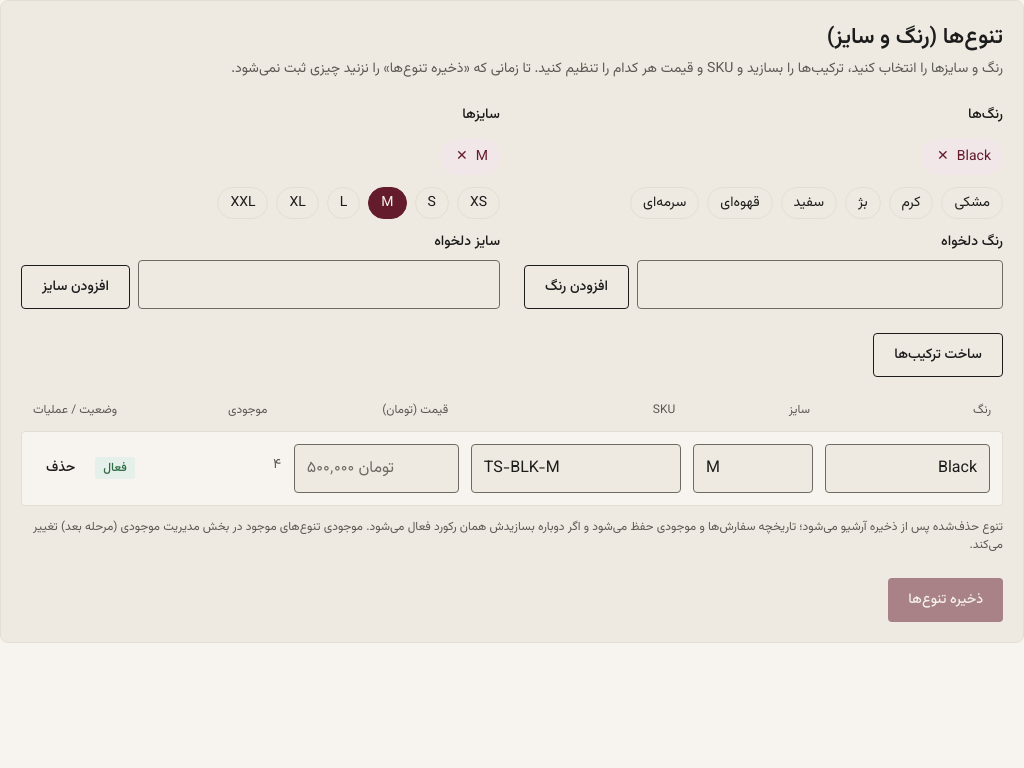
Test case: Variant Builder › 5) ذخیره: یک درخواست اتمیک با id تنوع موجود، و فهرست از پاسخ سرور تازه می‌شود
Check: the list named "فهرست تنوع‌ها" is shown, box [21,431,1003,506]
Type "650000" into the field named "قیمت تنوع ۱".
click(376, 468); type("650000")  # box [294,444,459,493]
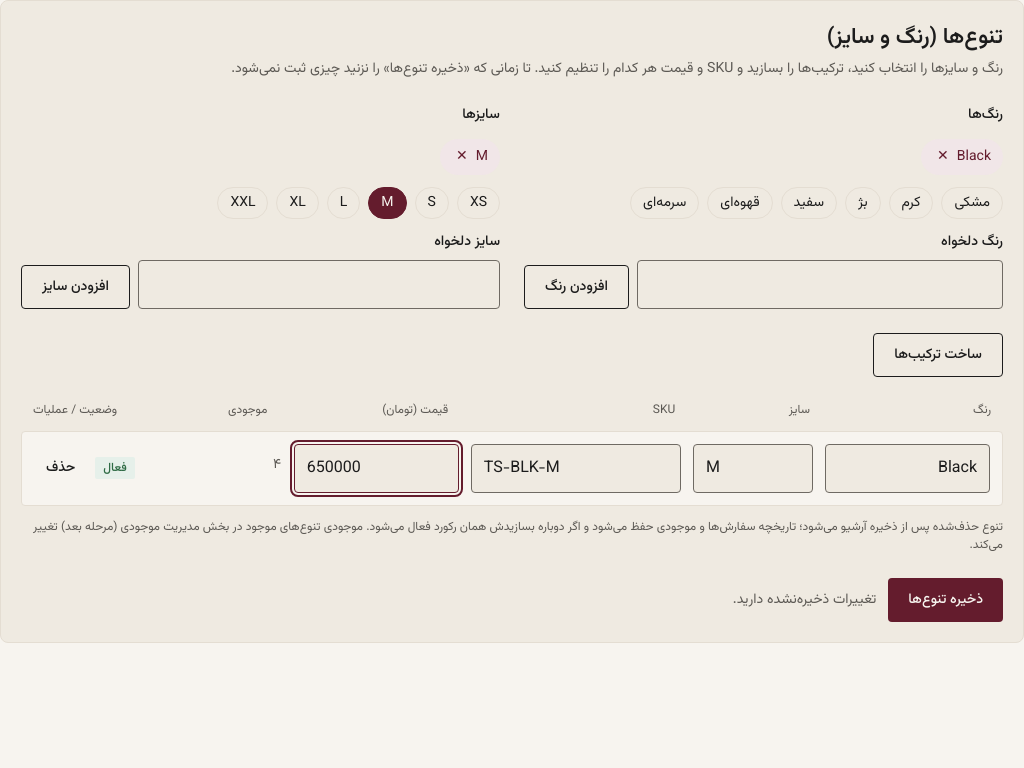
Type "L" into the field labelled "سایز دلخواه".
click(319, 284); type("L")  # box [138,260,500,309]
Then press Enter
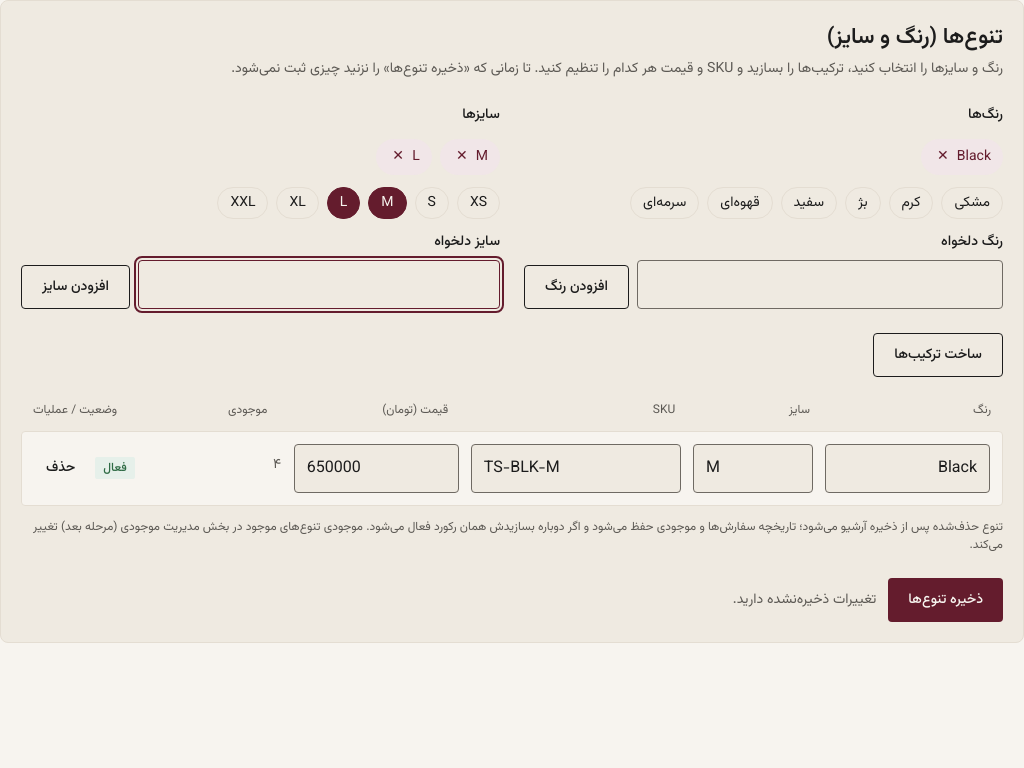
Click the button "ساخت ترکیب‌ها".
click(938, 355)  # box [873,333,1003,377]
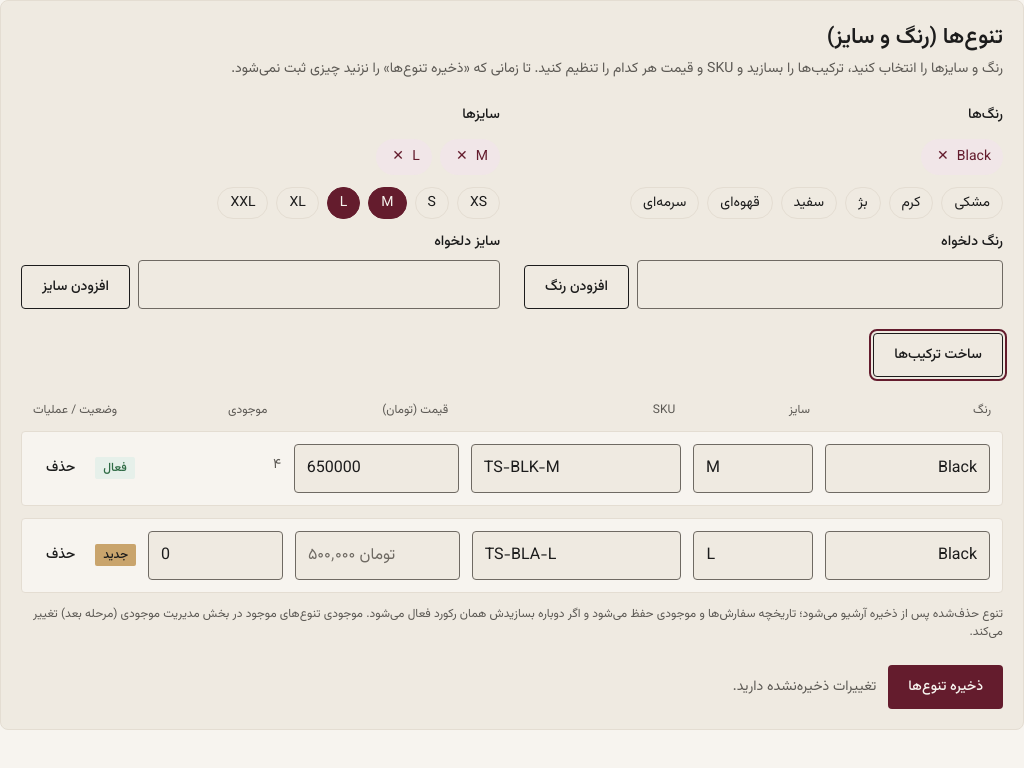
Click the button "ذخیره تنوع‌ها".
click(946, 687)  # box [888,665,1003,709]
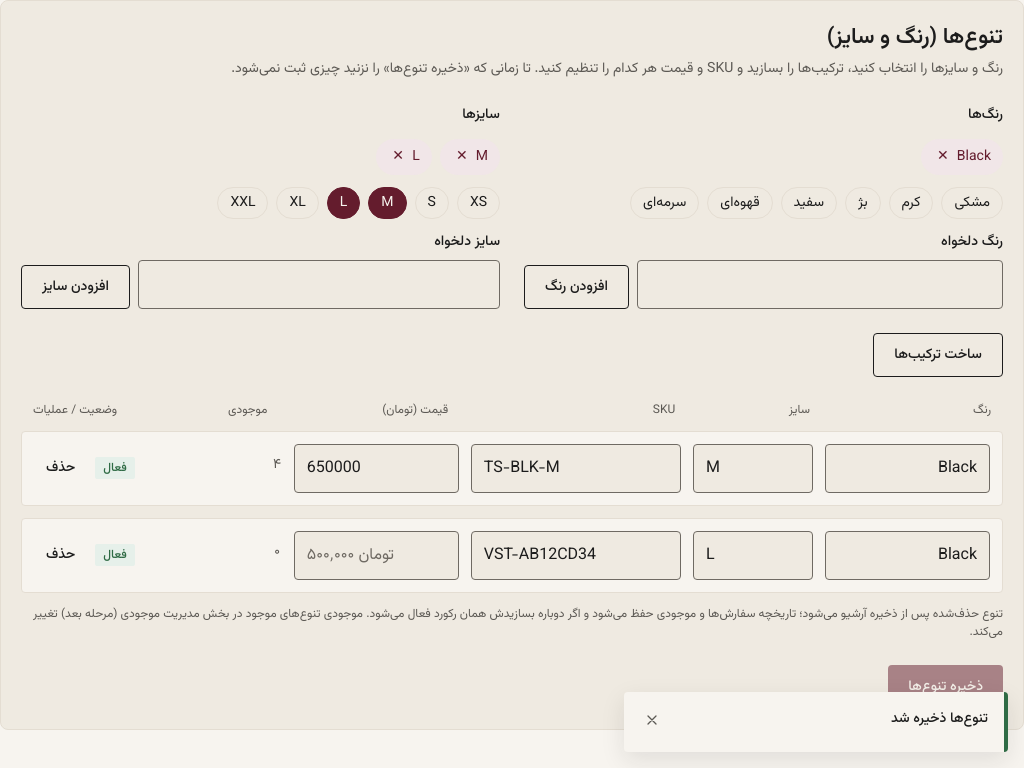
Check: the 5th field named "SKU تنوع ۲" holds "VST-AB12CD34", box [471,531,681,580]
Check: the text "تغییرات ذخیره‌نشده دارید." is gone
